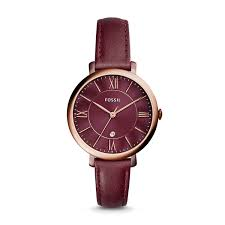clock: (73, 75, 153, 156)
